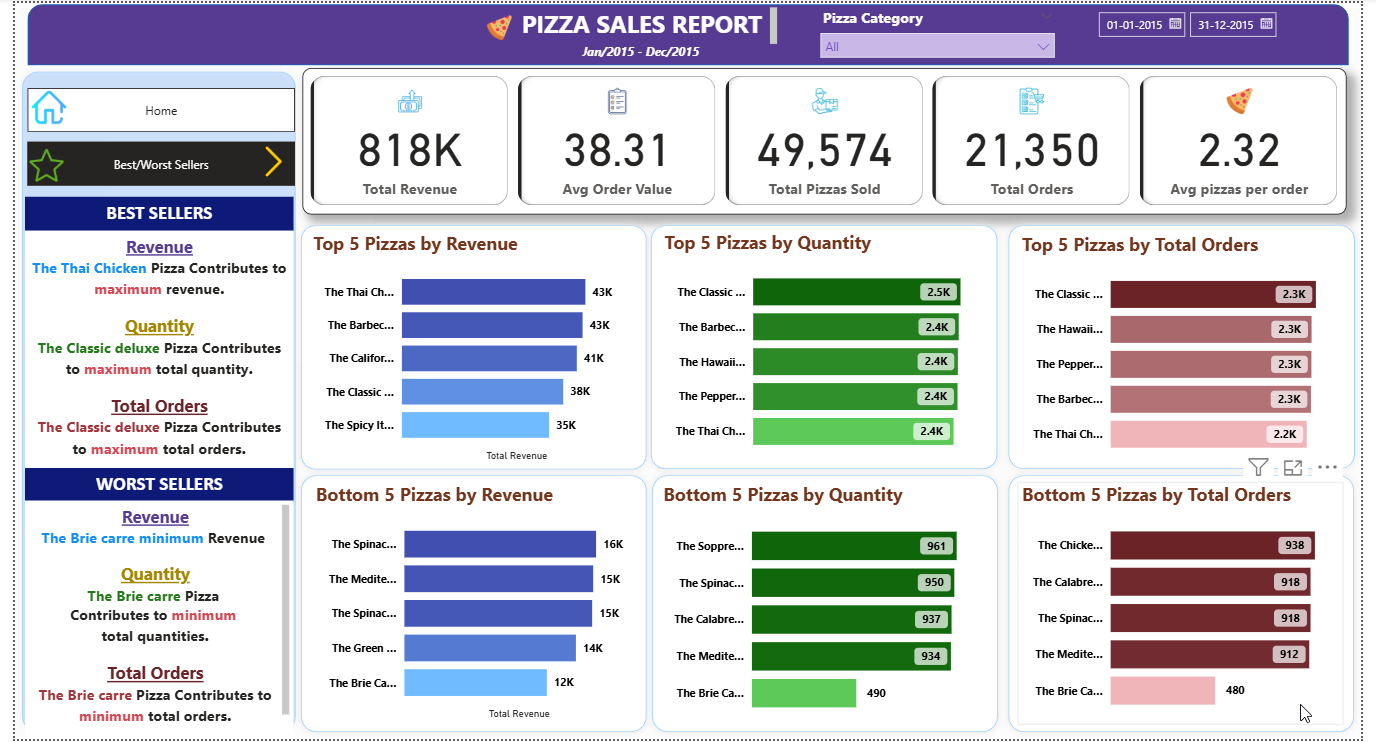

The page's visual inventory and layout, read from the dashboard file:
{"tool":"powerbi","page":{"name":"Best/Worst Sellers","canvas":[1500,820],"ordinal":1},"visuals":[{"type":"textbox","box":[100,100,300,300],"z":0},{"type":"shape","box":[0,68.1,320.7,752.7],"z":1000},{"type":"cardVisual","fields":{"Data":["public pizza_salse.Total Revenue","public pizza_salse.Avg Order Value","public pizza_salse.Total Pizzas Sold","public pizza_salse.Total Orders","public pizza_salse.Avg pizzas per order"]},"box":[320.3,72.4,1162.9,162.9],"z":2000},{"type":"shape","box":[13.3,1.7,1472.1,68.1],"z":3000},{"type":"textbox","box":[551.2,0,302.5,56.2],"z":4000},{"type":"textbox","box":[626.2,40,151.2,32.5],"z":5000},{"type":"image","box":[517.5,8.8,43.8,38.8],"z":6000},{"type":"shape","box":[310.6,239.5,401.1,288.3],"z":7000},{"type":"textbox","box":[11.1,253.5,299.4,264.6],"z":8000},{"type":"textbox","box":[11.1,215.9,299.4,37.6],"z":9000},{"type":"textbox","box":[11.1,518.1,299.4,37.6],"z":10000},{"type":"textbox","box":[11.6,554.9,299.1,265.8],"z":11000},{"type":"slicer","fields":{"Values":["public pizza_salse.pizza_category"]},"box":[887.1,0,281.3,68.2],"z":12000},{"type":"slicer","fields":{"Values":["public pizza_salse.order_date"]},"box":[1194.9,0,271.6,68.2],"z":13000},{"type":"shape","box":[701.1,239.6,402,287.8],"z":14000},{"type":"shape","box":[1098.3,239.3,402.1,287.4],"z":15000},{"type":"shape","box":[310.6,518.1,401.1,302.2],"z":16000},{"type":"shape","box":[701.9,518.1,401.1,302.2],"z":17000},{"type":"shape","box":[1098.8,518.1,401.1,302.2],"z":18000},{"type":"barChart","title":"Top 5 Pizzas by Revenue","fields":{"Category":["public pizza_salse.pizza_name"],"Y":["public pizza_salse.Total Revenue"]},"box":[327.3,253.5,364.9,261.8],"z":19000},{"type":"barChart","title":"Bottom 5 Pizzas by Revenue","fields":{"Category":["public pizza_salse.pizza_name"],"Y":["public pizza_salse.Total Revenue"]},"box":[329.7,533.9,365,270.2],"z":20000},{"type":"barChart","title":"Top 5 Pizzas by Quantity","fields":{"Category":["public pizza_salse.pizza_name"],"Y":["public pizza_salse.Total Pizzas Sold"]},"box":[718.8,252.5,365,262.1],"z":21000},{"type":"barChart","title":"Bottom 5 Pizzas by Quantity","fields":{"Category":["public pizza_salse.pizza_name"],"Y":["public pizza_salse.Total Pizzas Sold"]},"box":[717.8,533.3,363.9,274.1],"z":22000},{"type":"barChart","title":"Top 5 Pizzas by Total Orders","fields":{"Category":["public pizza_salse.pizza_name"],"Y":["public pizza_salse.Total Orders"]},"box":[1116.5,254.2,363.9,262.5],"z":23000},{"type":"barChart","title":"Bottom 5 Pizzas by Total Orders","fields":{"Category":["public pizza_salse.pizza_name"],"Y":["public pizza_salse.Total Orders"]},"box":[1116.5,533.3,363.9,270.8],"z":24000},{"type":"pageNavigator","box":[13.2,154.4,298.5,50],"z":25000},{"type":"pageNavigator","box":[13.2,94.1,298.5,50],"z":26000},{"type":"image","box":[264.7,154.4,47.1,44.1],"z":27000},{"type":"image","box":[13.2,89.7,48.5,54.4],"z":28000},{"type":"image","box":[11.8,155.9,48.5,50],"z":29000}]}

Visuals, with their boxes in screenshot pixels (x1, y1, x2, y2), scaled from the page's 1500x820 canvas onto the 1376x742 screenshot:
textbox: (x1=92, y1=90, x2=367, y2=362)
shape: (x1=0, y1=62, x2=294, y2=741)
cardVisual - public pizza_salse.Total Revenue x public pizza_salse.Avg Order Value: (x1=294, y1=66, x2=1361, y2=213)
shape: (x1=12, y1=2, x2=1363, y2=63)
textbox: (x1=506, y1=0, x2=783, y2=51)
textbox: (x1=574, y1=36, x2=713, y2=66)
image: (x1=475, y1=8, x2=515, y2=43)
shape: (x1=285, y1=217, x2=653, y2=478)
textbox: (x1=10, y1=229, x2=285, y2=469)
textbox: (x1=10, y1=195, x2=285, y2=229)
textbox: (x1=10, y1=469, x2=285, y2=503)
textbox: (x1=11, y1=502, x2=285, y2=741)
slicer - public pizza_salse.pizza_category: (x1=814, y1=0, x2=1072, y2=62)
slicer - public pizza_salse.order_date: (x1=1096, y1=0, x2=1345, y2=62)
shape: (x1=643, y1=217, x2=1012, y2=477)
shape: (x1=1008, y1=217, x2=1375, y2=477)
shape: (x1=285, y1=469, x2=653, y2=741)
shape: (x1=644, y1=469, x2=1012, y2=741)
shape: (x1=1008, y1=469, x2=1375, y2=741)
"Top 5 Pizzas by Revenue" barChart: (x1=300, y1=229, x2=635, y2=466)
"Bottom 5 Pizzas by Revenue" barChart: (x1=302, y1=483, x2=637, y2=728)
"Top 5 Pizzas by Quantity" barChart: (x1=659, y1=228, x2=994, y2=466)
"Bottom 5 Pizzas by Quantity" barChart: (x1=658, y1=483, x2=992, y2=731)
"Top 5 Pizzas by Total Orders" barChart: (x1=1024, y1=230, x2=1358, y2=468)
"Bottom 5 Pizzas by Total Orders" barChart: (x1=1024, y1=483, x2=1358, y2=728)
pageNavigator: (x1=12, y1=140, x2=286, y2=185)
pageNavigator: (x1=12, y1=85, x2=286, y2=130)
image: (x1=243, y1=140, x2=286, y2=180)
image: (x1=12, y1=81, x2=57, y2=130)
image: (x1=11, y1=141, x2=55, y2=186)
